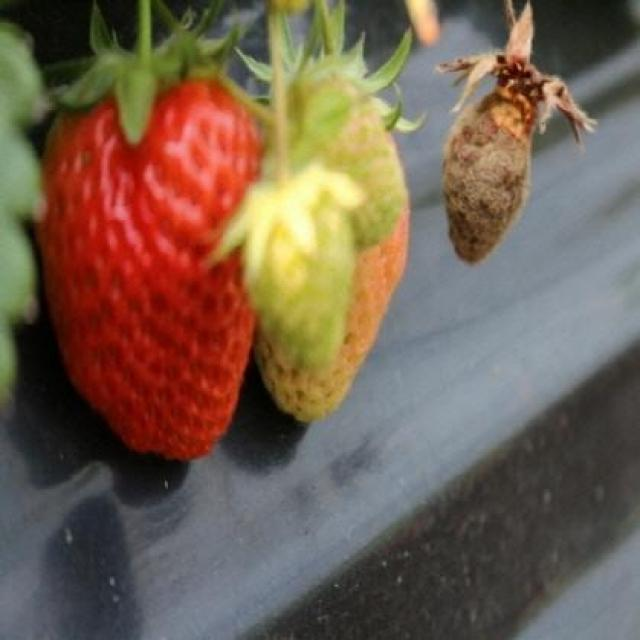Gray Mold: (433, 2, 601, 266)
Health_100: (33, 68, 265, 464)
